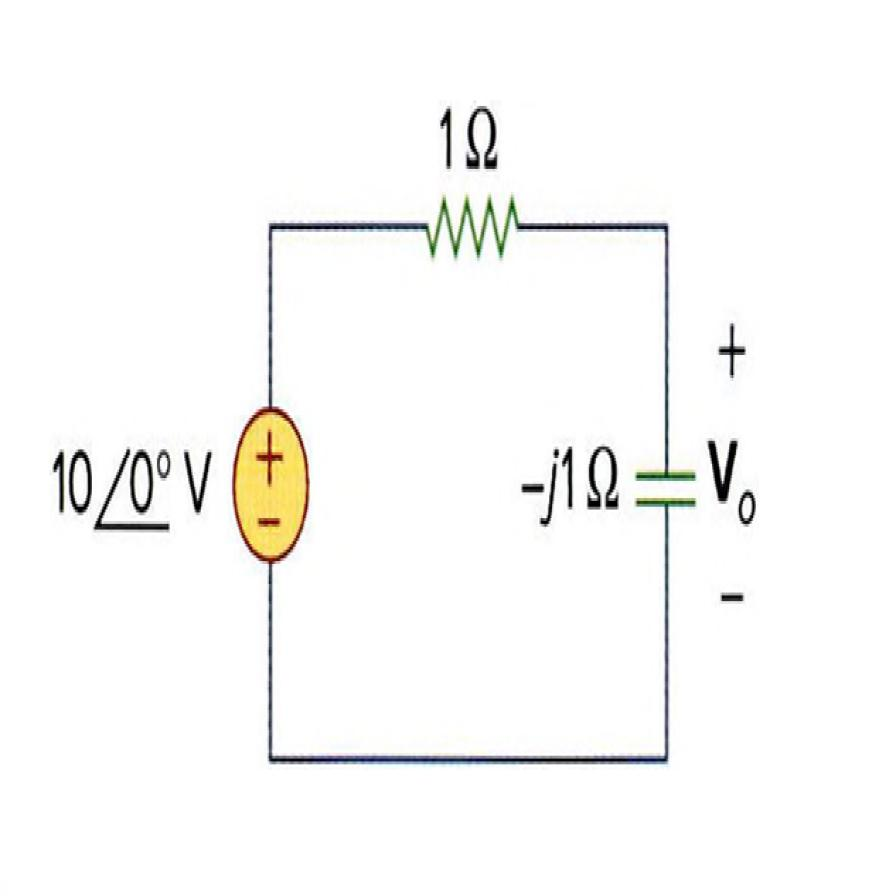C2: (629, 433, 702, 559)
R1: (416, 178, 533, 300)
V1: (226, 386, 317, 591)
